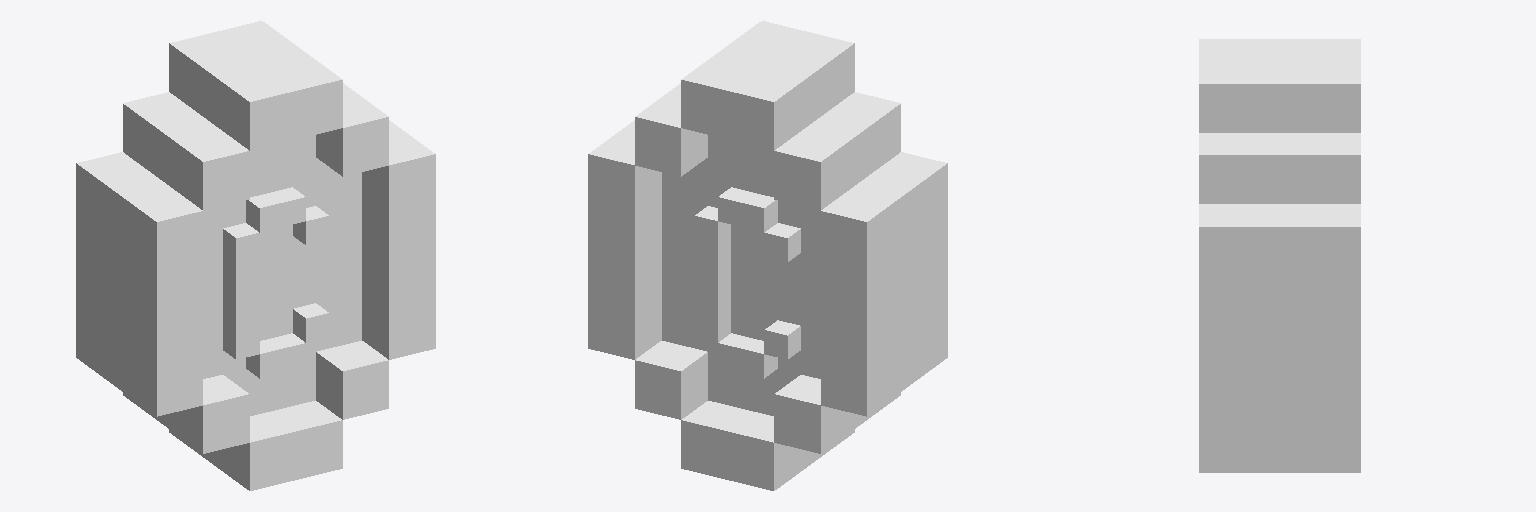
Rendered from Coin.obj.
3 renders of one model, left to right at view 1: azimuth 30°, elevation 25°; view 2: azimuth 150°, elevation 25°; view 3: azimuth 270°, elevation 25°, orthographic.
Visible parts, largest first — view 1: object 1; view 2: object 1; view 3: object 1.
Boxes of the visible parts, <box> form: object 1: <box>76,21,435,490</box>; object 1: <box>588,21,947,490</box>; object 1: <box>1199,39,1360,472</box>.
Size of the model in its own units: 1.2 by 1.6 by 0.6.